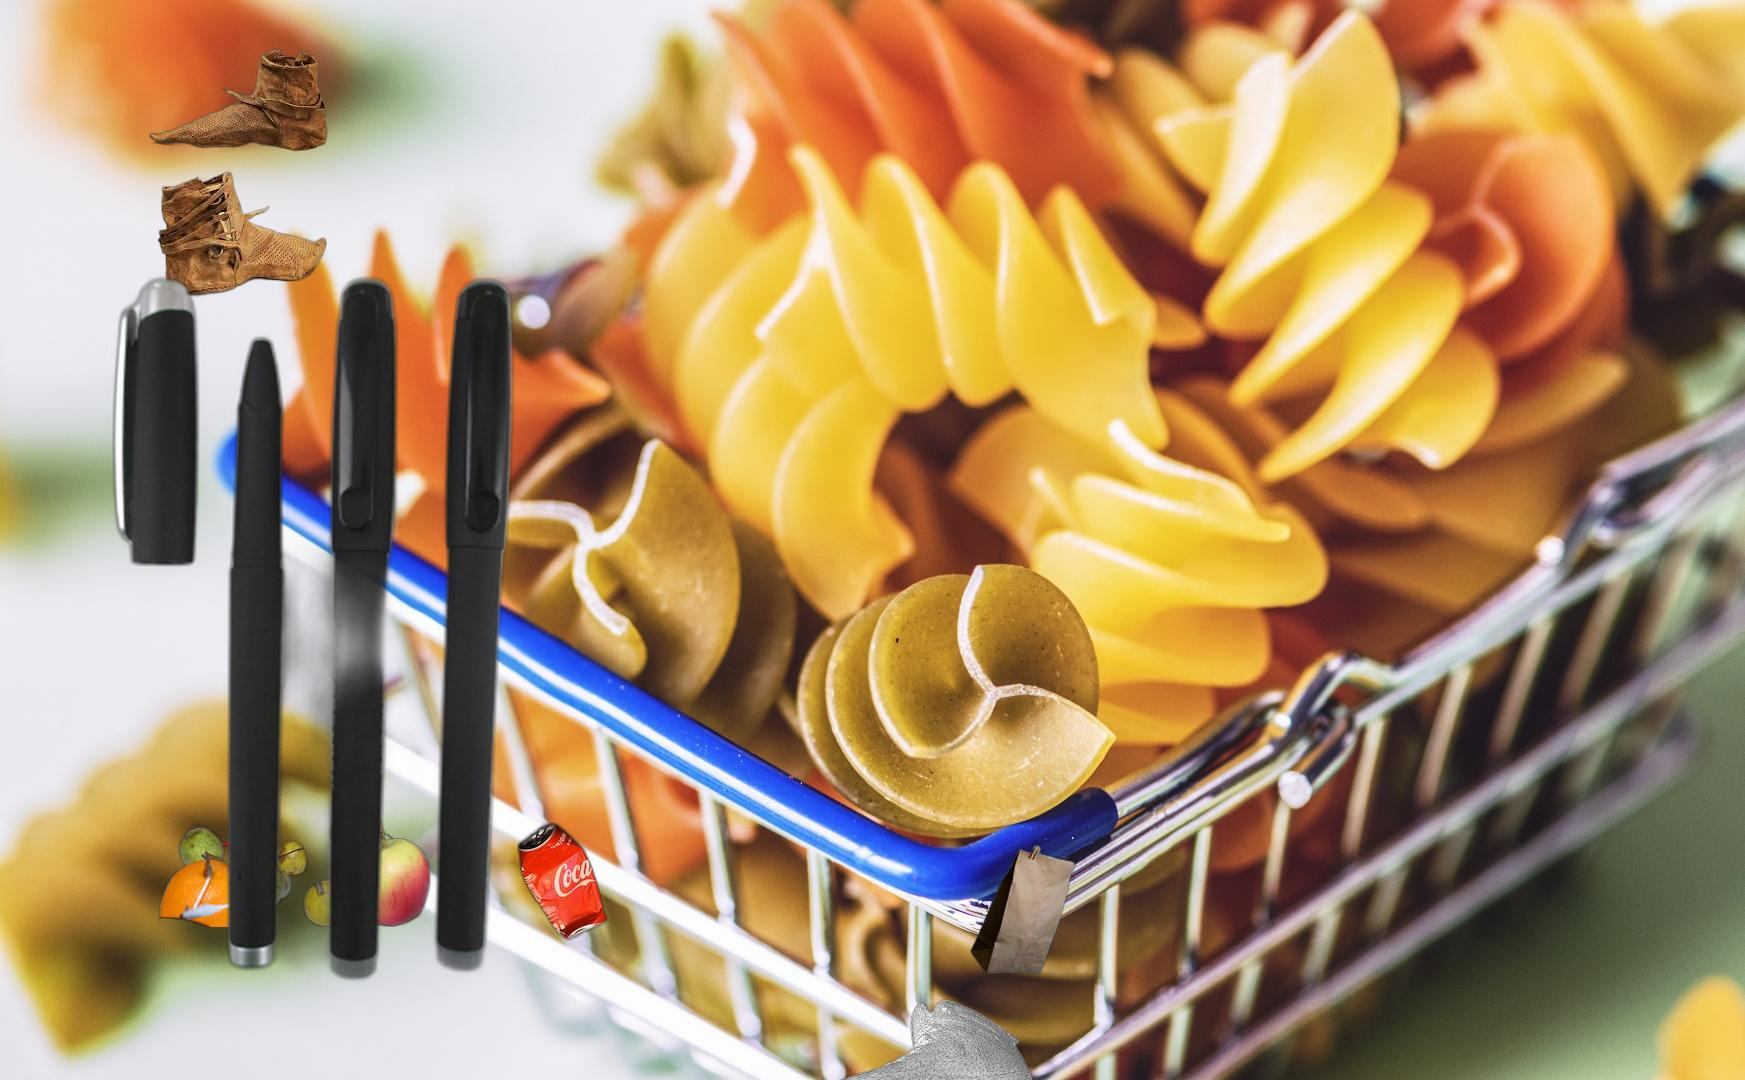biological: (158, 804, 457, 927)
metal-cans: (514, 542, 825, 945)
paper-bag: (961, 839, 1078, 976)
penholder: (106, 272, 520, 985)
shoes: (150, 47, 330, 299), (806, 996, 1032, 1080)
